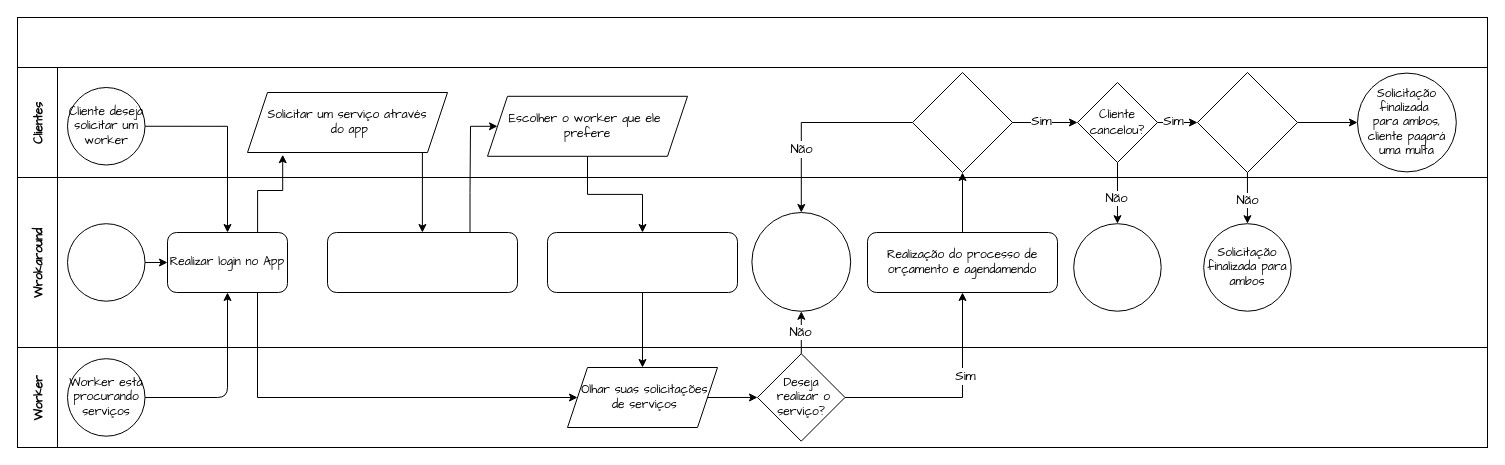
Some shapes in this 1505 by 465 pixel diagram are drawn without their labels. Each missing label, with the box of its shape:
Deseja pagar o valor solicitado?: (912, 72, 1012, 172)
Enviar notificação ao worker de que existem clientes que solicitam seus serviços: (546, 232, 738, 292)
Finalizar a solicitação com sucesso: (1073, 223, 1161, 311)
Fluxograma de Processos WorkAround: (16, 16, 1488, 68)
Receber as informações e mostrar os workers e datas disponíveis para o usuário: (326, 232, 518, 292)
Se passaram mais de 24 horas?: (1196, 72, 1298, 172)
Solicitação finalizada para o worker, pedido é reaberto: (751, 212, 851, 311)
